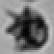not correct: (3, 2, 51, 52)
